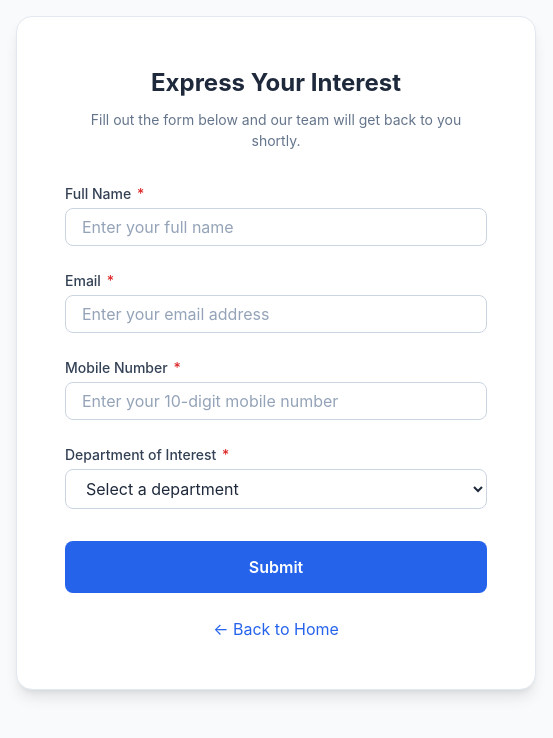
Test: InterestForm › shows validation errors for empty required fields › shows validation error for invalid email format
Step 1. Type "John Doe" into the field labelled "Full Name *" → (276, 227), box [65, 208, 487, 246]
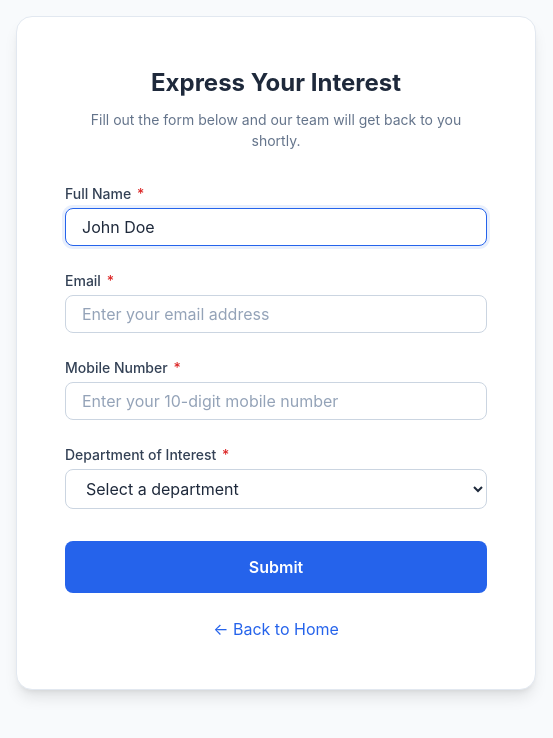
Step 2. Type "invalid-email" into the field labelled "Email *" → (276, 314), box [65, 295, 487, 333]
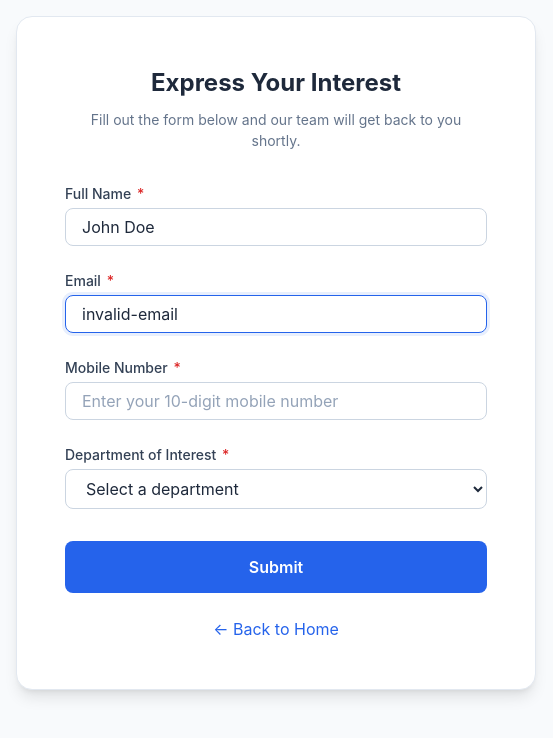
Step 3. Type "1234567890" into the field labelled "Mobile Number *" → (276, 401), box [65, 382, 487, 420]
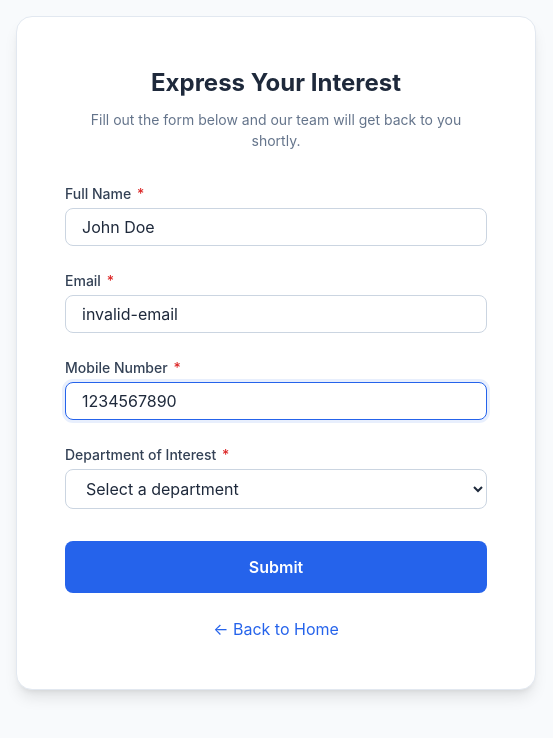
Step 4. Select "Engineering" in the dropdown labelled "Department of Interest *" → (276, 489), box [65, 469, 487, 509]
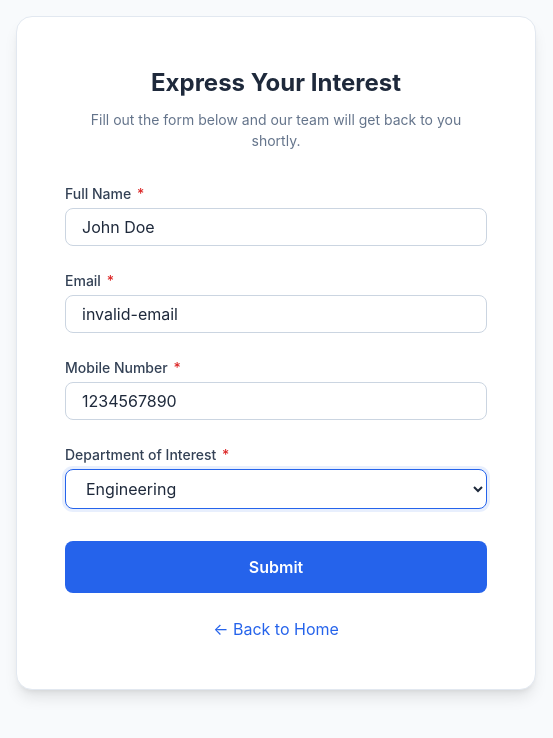
Step 5. Click the button "Submit" → (276, 567), box [65, 541, 487, 593]
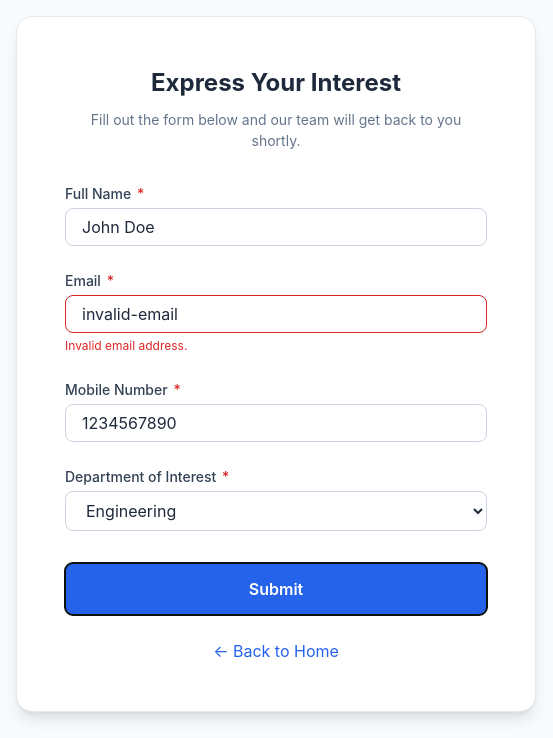
Result: the text "Invalid email address." is shown at [65, 338, 187, 353]
